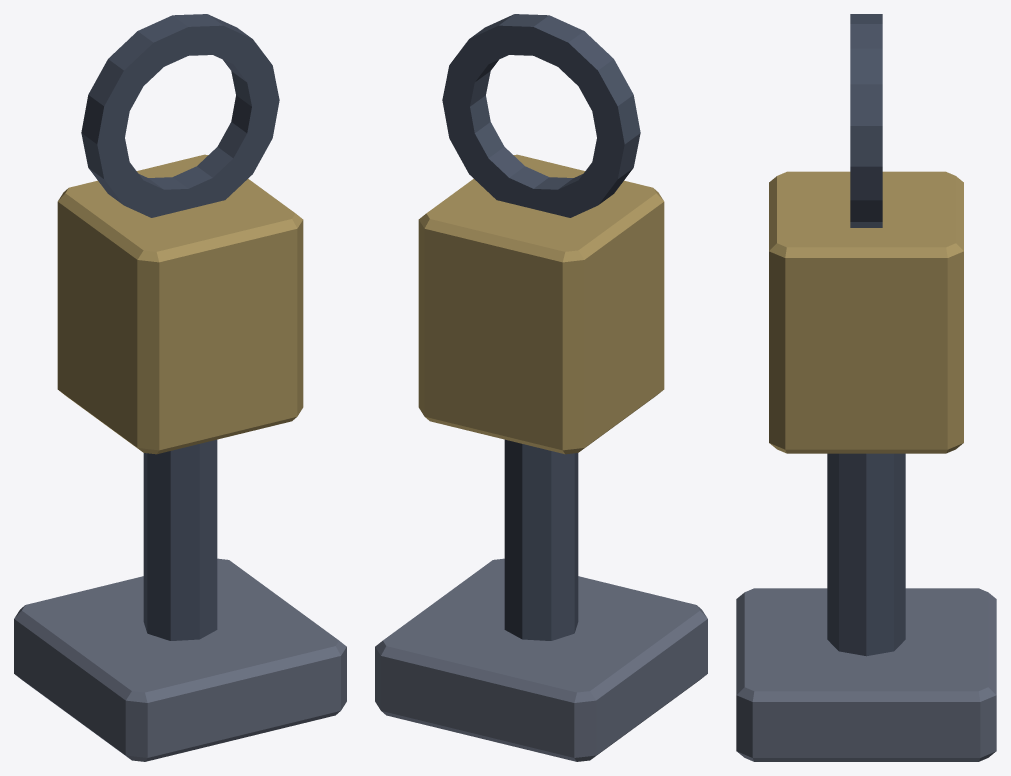
The model's file is mine-lamp.glb.
The picture shows the model from 3 angles, left to right: view 1: azimuth 30°, elevation 25°; view 2: azimuth 150°, elevation 25°; view 3: azimuth 270°, elevation 25°; orthographic projection.
Visible parts, largest first — view 1: mine-lamp__body; view 2: mine-lamp__body; view 3: mine-lamp__body.
Part boxes in pixels (left/top/right/bottom): mine-lamp__body: left=14, top=14, right=346, bottom=761; mine-lamp__body: left=375, top=14, right=707, bottom=761; mine-lamp__body: left=736, top=14, right=996, bottom=761.
Bounding box in the file's own units: 0.4 × 1.16 × 0.4.
